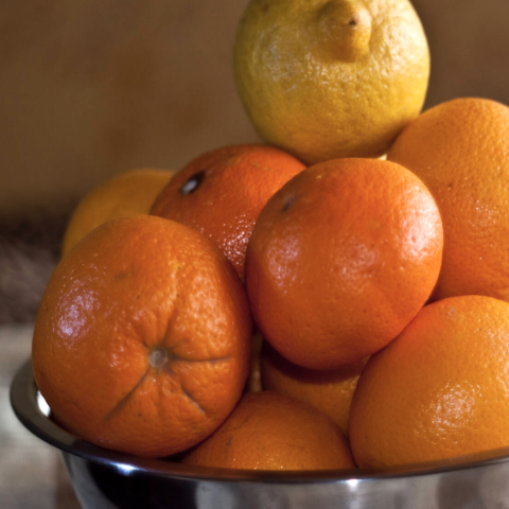orange: (20, 208, 257, 475), (225, 115, 448, 379)
